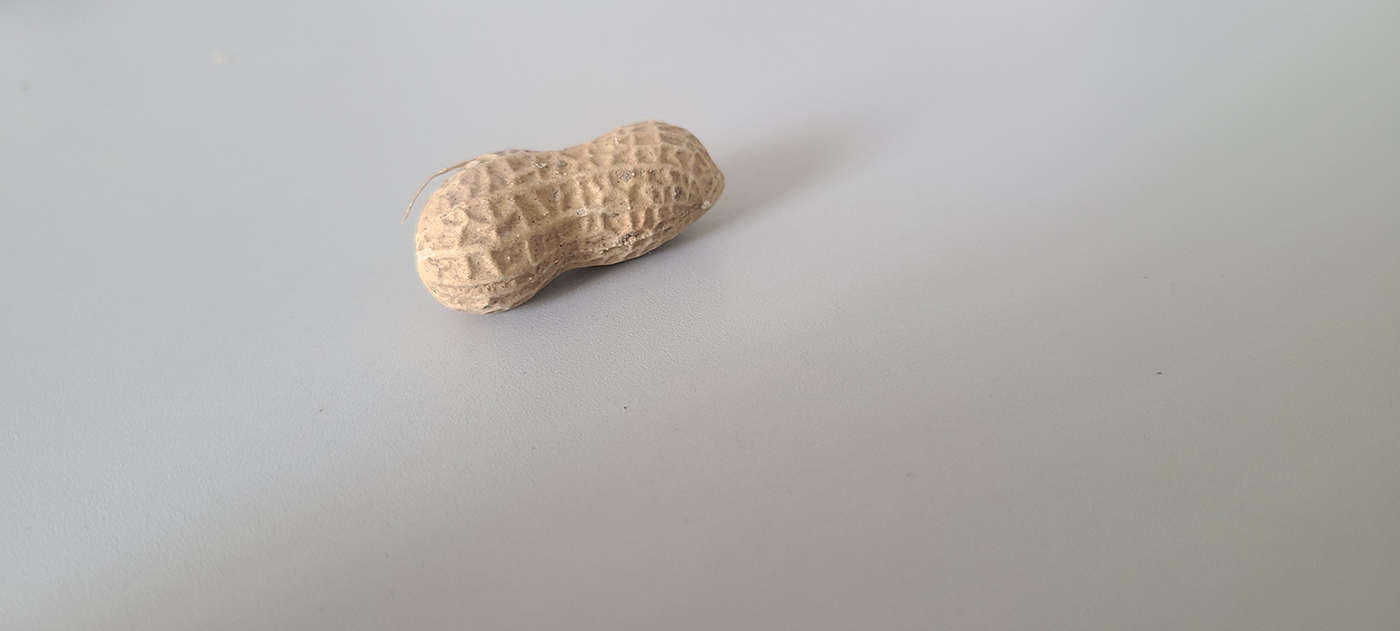h: (411, 121, 725, 314)
